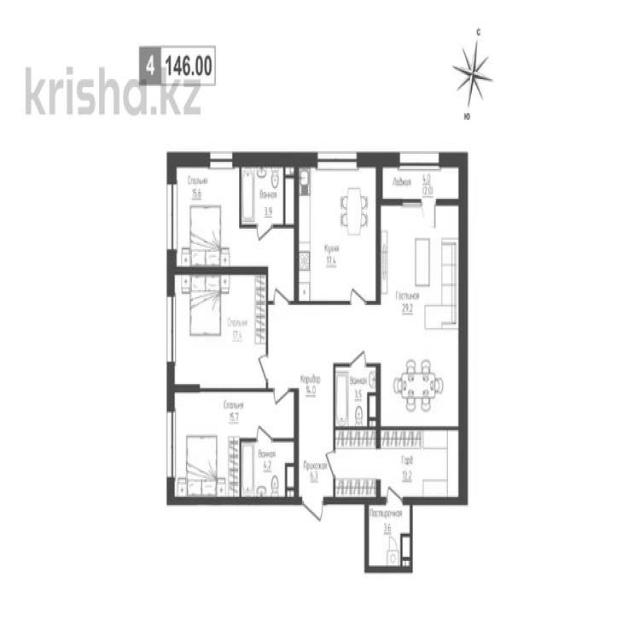balcony: (379, 158, 466, 203)
bathroom: (242, 160, 295, 232), (240, 439, 299, 500), (366, 500, 415, 570), (334, 363, 377, 426)
hallway: (270, 232, 296, 438), (294, 308, 335, 429), (294, 428, 334, 495)
kitchen: (296, 156, 377, 310)
living_room: (379, 207, 466, 428), (169, 274, 267, 388), (172, 160, 240, 264), (171, 394, 238, 499)
other: (377, 430, 465, 498), (336, 430, 376, 499)
